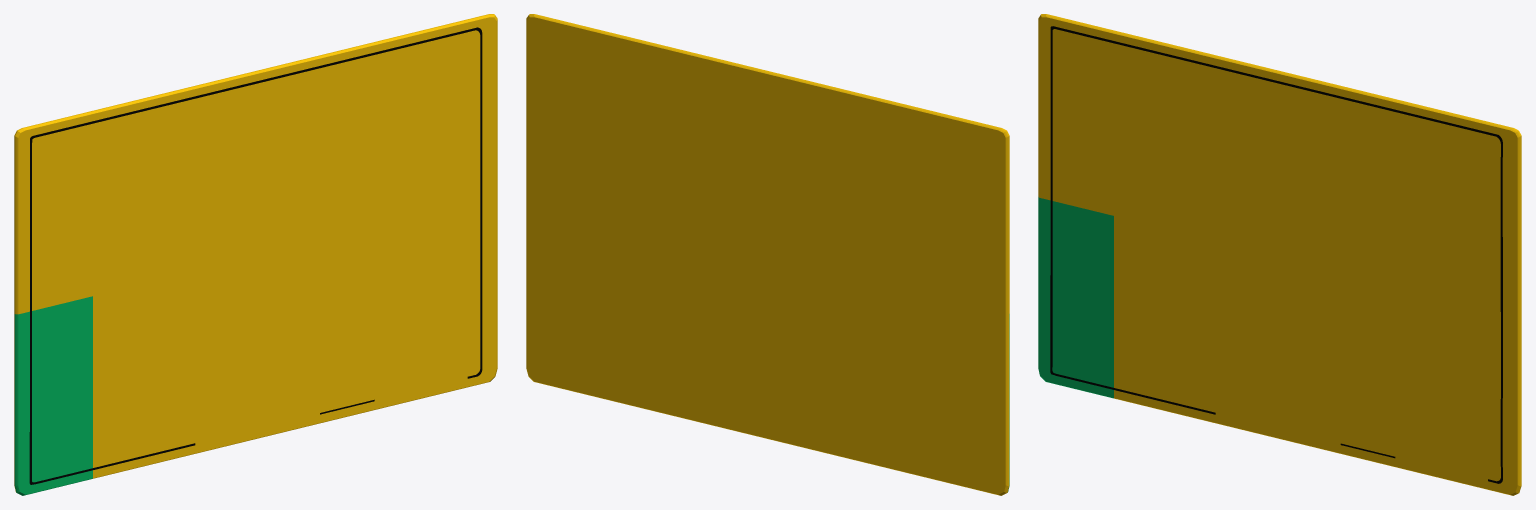
File: motorcycle_bordered_plate.gltf
The picture shows the model from 3 angles, left to right: view 1: azimuth 30°, elevation 25°; view 2: azimuth 150°, elevation 25°; view 3: azimuth 330°, elevation 25°; orthographic projection.
Parts seen in each view (by area): view 1: Plane, Circle.002; view 2: Plane; view 3: Plane, Circle.002.
Boxes of the visible parts, x1,y1,x2,y2 form: Plane: (14,14,497,495); Circle.002: (29,27,482,484); Plane: (526,14,1009,495); Plane: (1038,14,1521,495); Circle.002: (1050,26,1502,483).
Size of the model in its own units: 6.98 by 5.07 by 0.0794.
